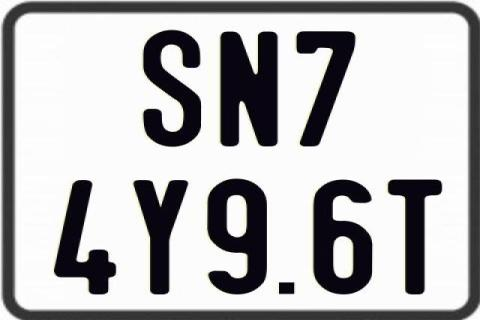0: (312, 178, 376, 296), (295, 31, 359, 147), (204, 179, 265, 299), (52, 180, 114, 298)
N: (217, 29, 275, 149)
S: (142, 29, 204, 149)
T: (385, 180, 440, 300)
Y: (130, 180, 185, 296)
